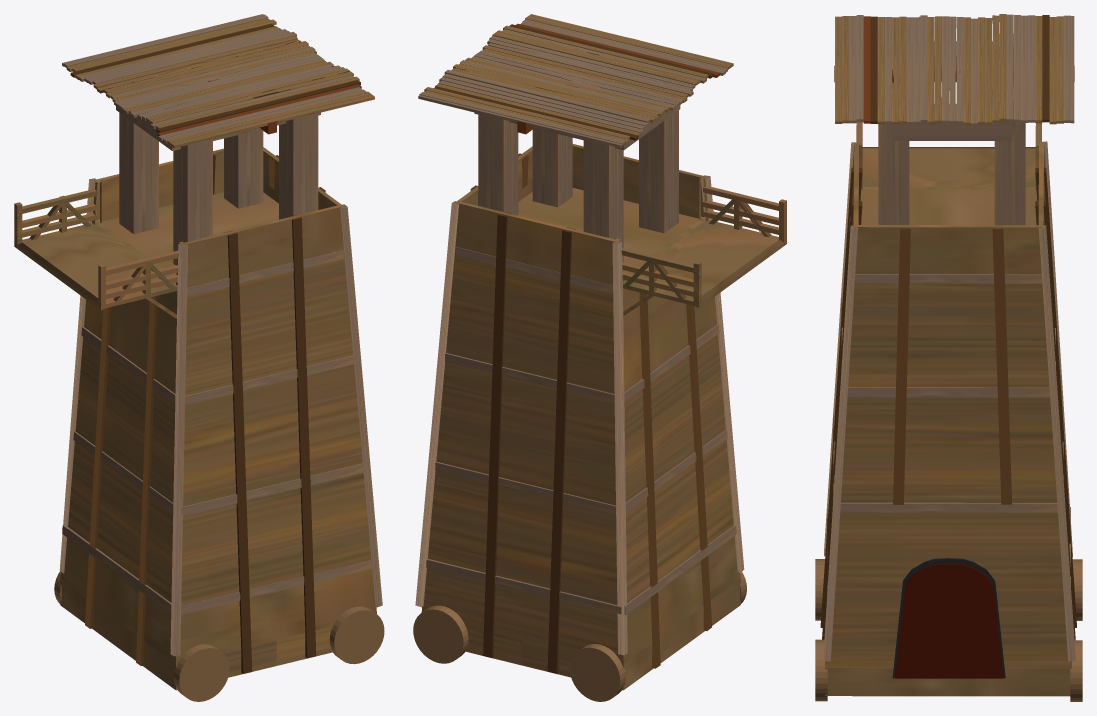
File: siege-tower.zfix-v14.lod0.glb
3 renders of one model, left to right at view 1: azimuth 30°, elevation 25°; view 2: azimuth 150°, elevation 25°; view 3: azimuth 270°, elevation 25°, orthographic. The views are drawn at different scales.
Visible parts, largest first — view 1: Object_11, Object_9, Object_2; view 2: Object_11, Object_9, Object_2; view 3: Object_11, Object_9, Object_2.
Boxes of the visible parts, x1,y1,x2,y2 form: Object_11: (14,18,384,701); Object_9: (59,14,382,656); Object_2: (70,24,361,673); Object_11: (413,14,786,701); Object_9: (415,19,744,655); Object_2: (434,23,719,673); Object_11: (815,14,1082,701); Object_9: (823,14,1075,661); Object_2: (820,15,1076,678).
Bounding box in the file's own units: 7.6 × 15 × 6.13.
Materials: 3 (2 with a texture image).
